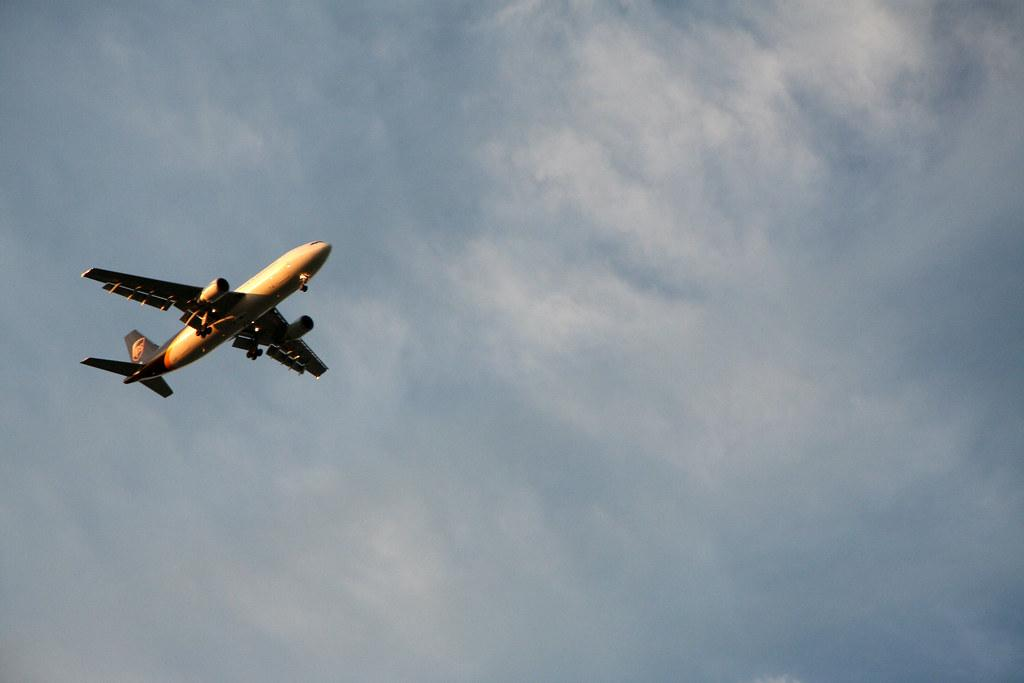plane: (79, 240, 333, 399)
